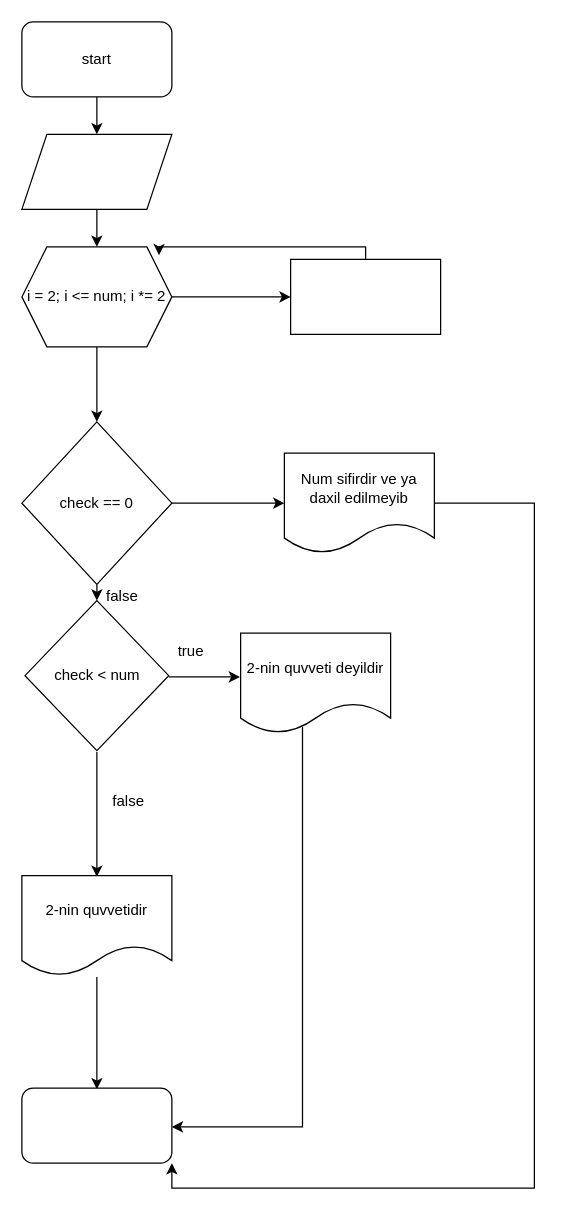
Some shapes in this 566 by 1220 pixel diagram are drawn without their labels. Each missing label, with the centre of its shape:
check = i;: point (365, 296)
end: point (96, 1125)
num; check = 0;: point (96, 171)
